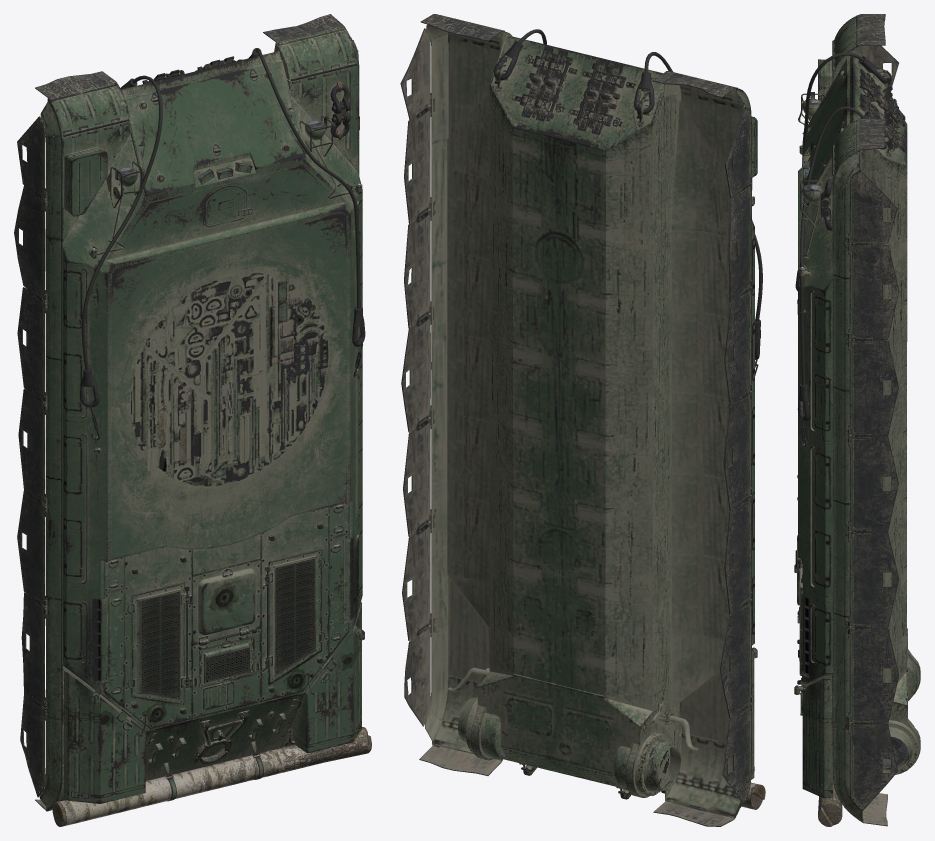
Rendered from Hull.glb.
3 views of the same model, side by side, from view 1: azimuth 30°, elevation 25°; view 2: azimuth 150°, elevation 25°; view 3: azimuth 270°, elevation 25° (orthographic). The views are drawn at different scales.
Parts seen in each view (by area): view 1: set_0_group_0; view 2: set_0_group_0; view 3: set_0_group_0.
Part boxes in pixels (box(x1,y1,x2,y2)): set_0_group_0: box(14, 14, 371, 826); set_0_group_0: box(400, 14, 765, 826); set_0_group_0: box(794, 14, 920, 826).
Bounding box in the file's own units: 3.66 × 7.89 × 1.32.
1 material, 1 textured.
